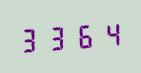four: (96, 18, 121, 49)
six: (70, 20, 95, 51)
three: (44, 21, 69, 53), (18, 23, 43, 54)
